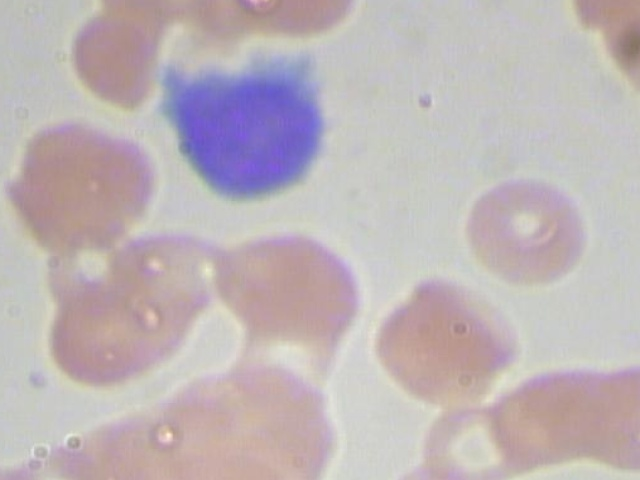RBC: (0, 113, 166, 254), (368, 270, 529, 405), (203, 216, 364, 351), (454, 171, 600, 288), (38, 284, 163, 385), (48, 8, 173, 108), (419, 397, 516, 480), (570, 363, 640, 476), (232, 0, 358, 52)
WBC: (123, 39, 345, 206)
